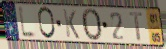2: (109, 11, 126, 41)
K: (62, 8, 81, 41)
L: (17, 4, 39, 41)
O: (80, 7, 103, 43), (37, 6, 57, 41)
T: (128, 11, 144, 43)
